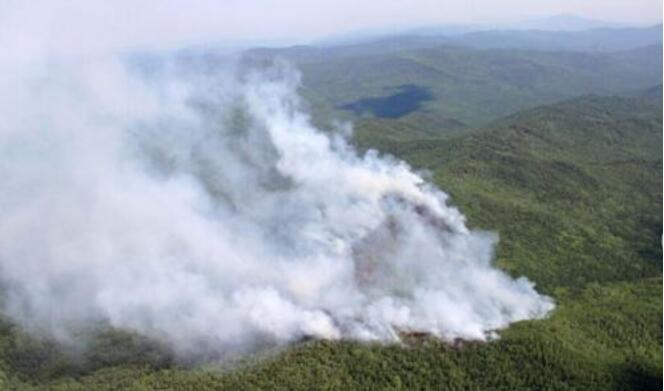smoke: (1, 0, 558, 357)
